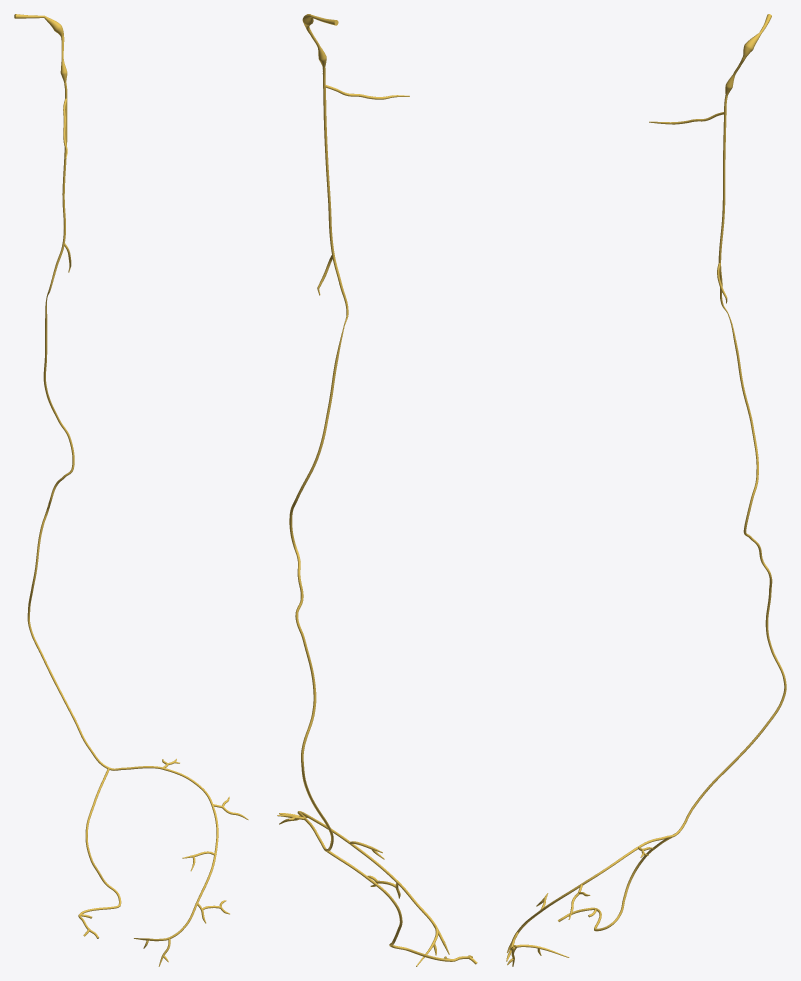
The model's file is Vagus_nerve_X_left.glb.
3 renders of one model, left to right at view 1: azimuth 30°, elevation 25°; view 2: azimuth 150°, elevation 25°; view 3: azimuth 270°, elevation 25°, orthographic. The views are drawn at different scales.
Parts seen in each view (by area): view 1: Vagus_nerve_(X).l_BezierCurve.326; view 2: Vagus_nerve_(X).l_BezierCurve.326; view 3: Vagus_nerve_(X).l_BezierCurve.326.
Part boxes in pixels (bbox=[...]): Vagus_nerve_(X).l_BezierCurve.326: bbox=[14, 14, 248, 966]; Vagus_nerve_(X).l_BezierCurve.326: bbox=[277, 14, 477, 966]; Vagus_nerve_(X).l_BezierCurve.326: bbox=[506, 14, 786, 966].
Size of the model in its own units: 0.0814 by 0.4108 by 0.1111.
